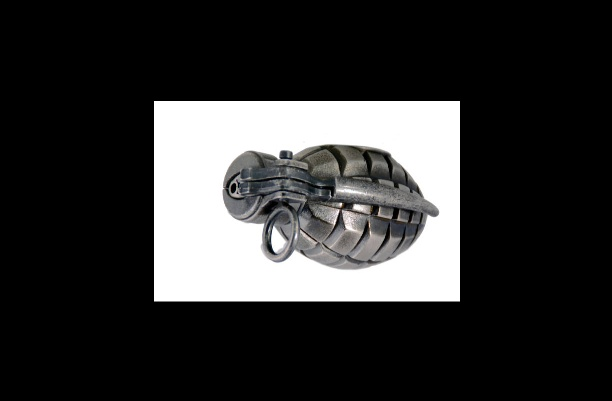e1: (223, 144, 440, 271)
